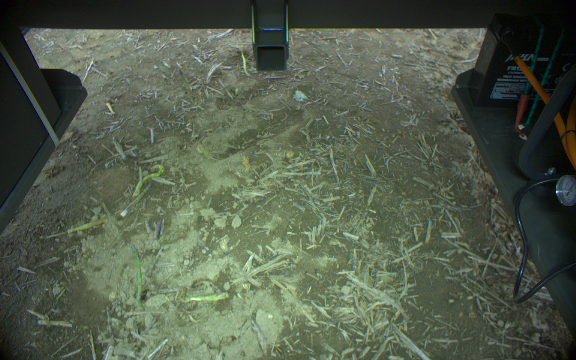aspa: (126, 240, 147, 306), (179, 286, 229, 306), (133, 164, 166, 194)
